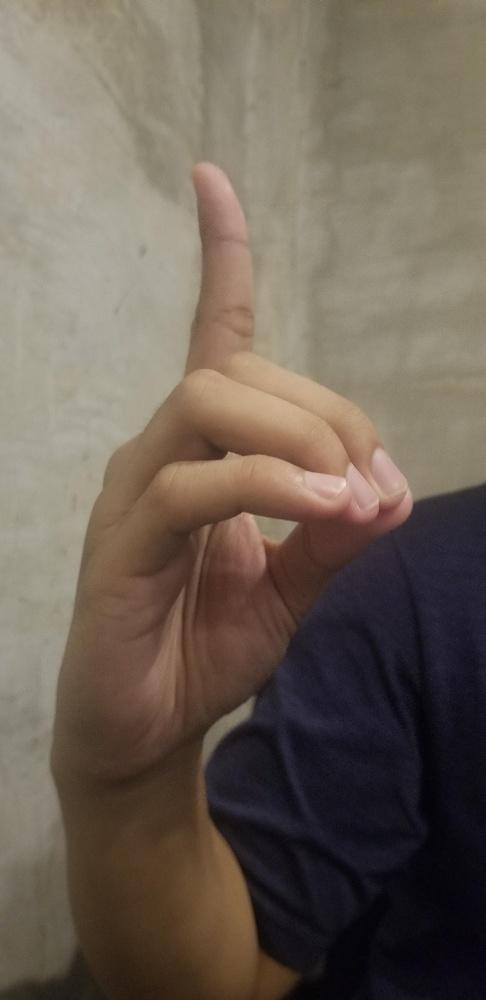d: (50, 160, 412, 775)
